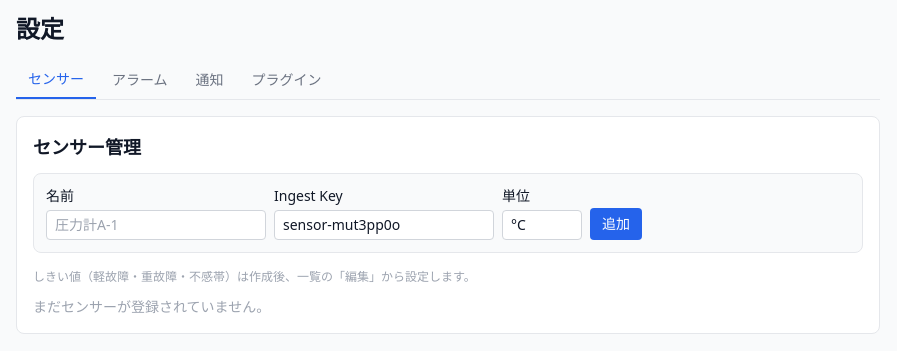
Test: SettingsPage › アラームタブに切り替えられる
Click the button "アラーム" at (140, 80), box [100,61,180,99]
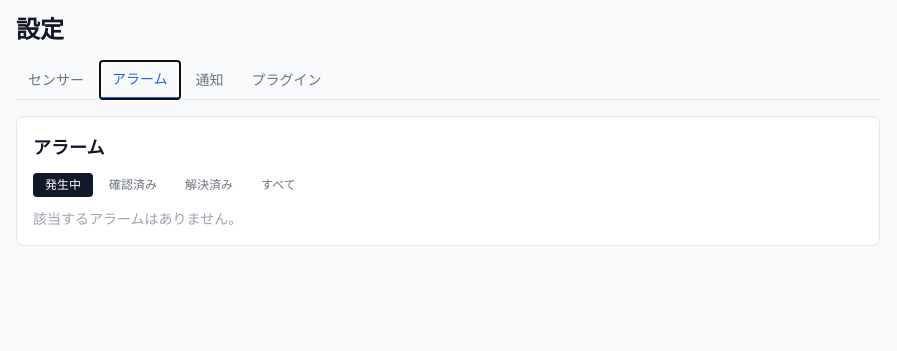
Check: the text "該当するアラームはありません。" is shown, box [33,209,242,228]
